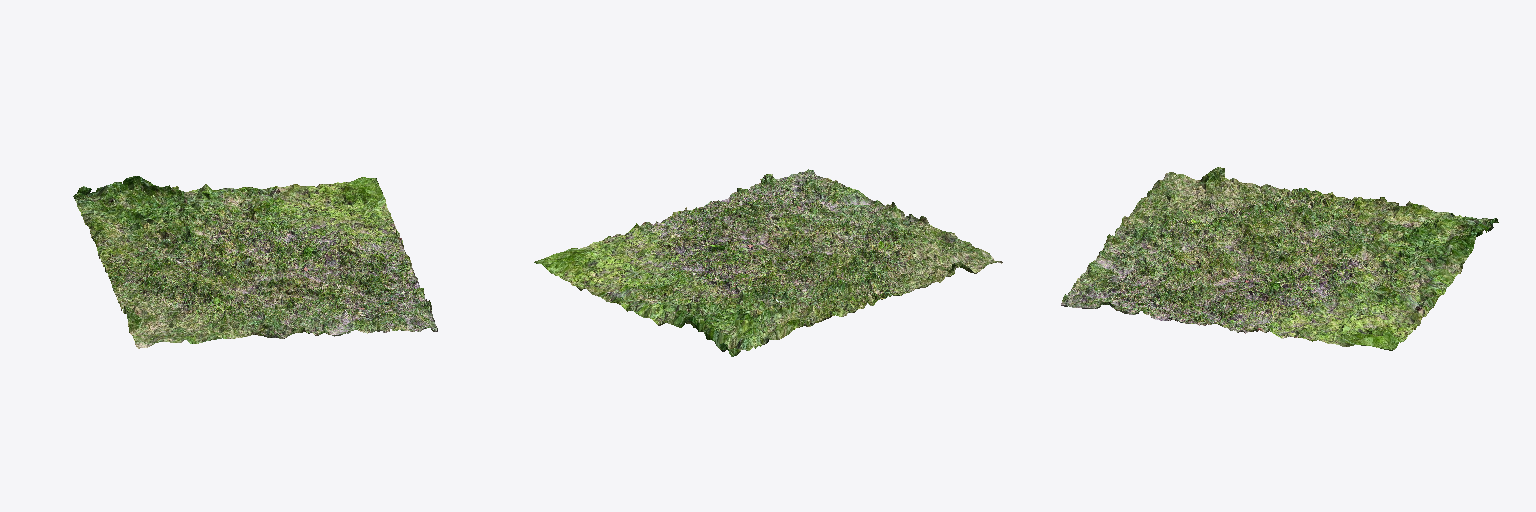
3 renders of one model, left to right at view 1: azimuth 30°, elevation 25°; view 2: azimuth 150°, elevation 25°; view 3: azimuth 270°, elevation 25°, orthographic.
Parts seen in each view (by area): view 1: Object; view 2: Object; view 3: Object.
Part boxes in pixels (left/top/right/bottom): Object: left=73, top=176, right=437, bottom=348; Object: left=534, top=169, right=1002, bottom=356; Object: left=1061, top=167, right=1498, bottom=350.
Bounding box in the file's own units: 1.93 × 0.1551 × 2.07.
Materials: 1 (1 with a texture image).